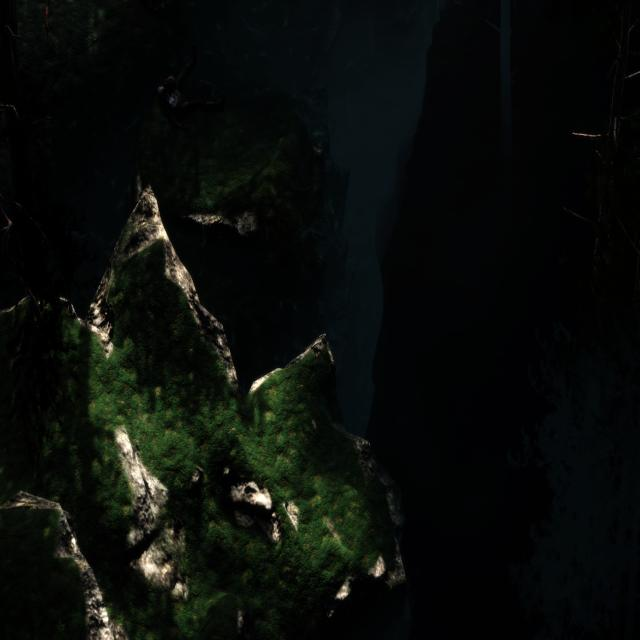Human: (152, 40, 231, 132)
